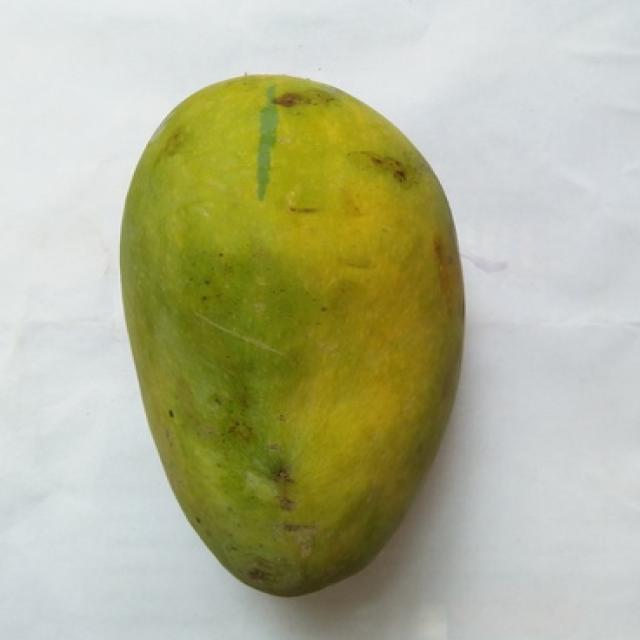Mango: (125, 76, 463, 594)
